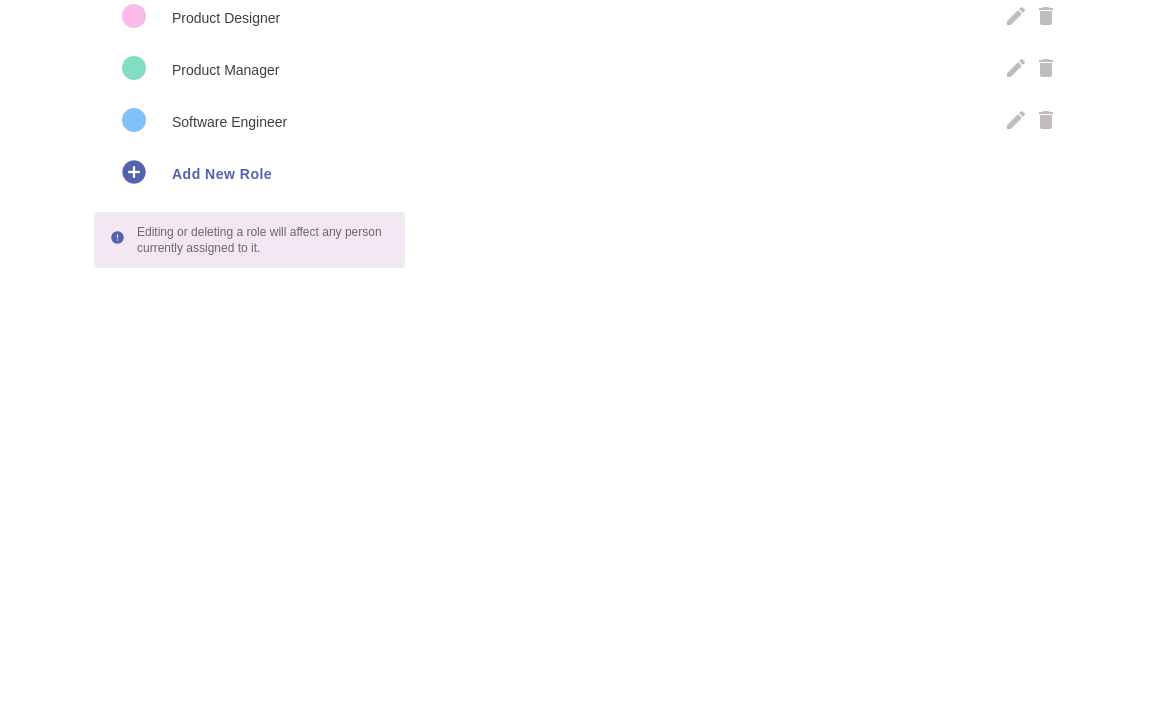
Test: My Roles Form › deleting a role › should show the confirm delete modal if clicking the trash
Click the 1st button with test id "deleteIcon__role": [1046, 18] box [1034,4,1058,32]
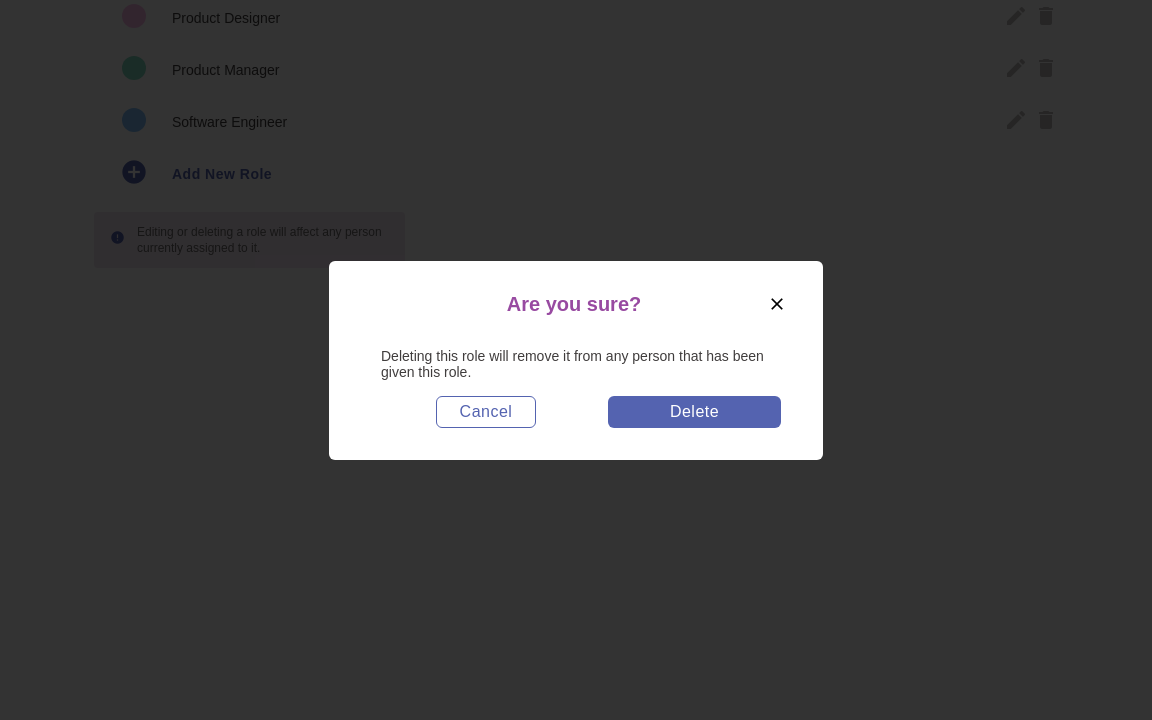
Expected: the text "Deleting this role will remove it from any person that has been given this role." is shown, [381,348,771,380]
